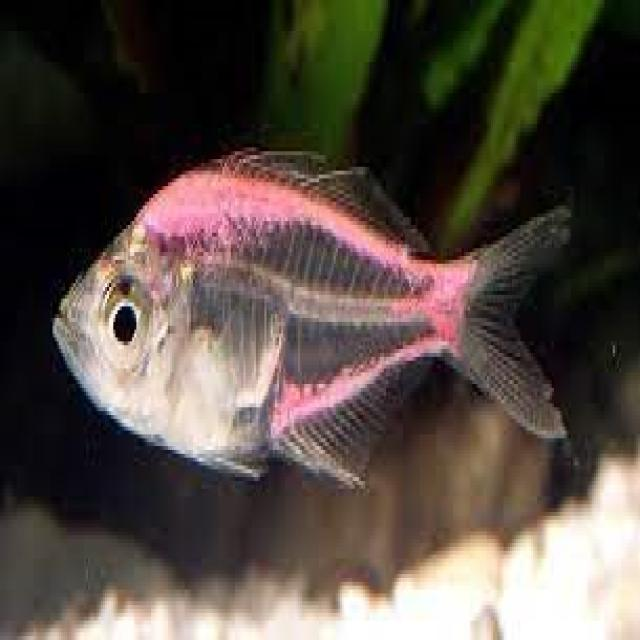Glass-Perchlet: (26, 96, 588, 536)
